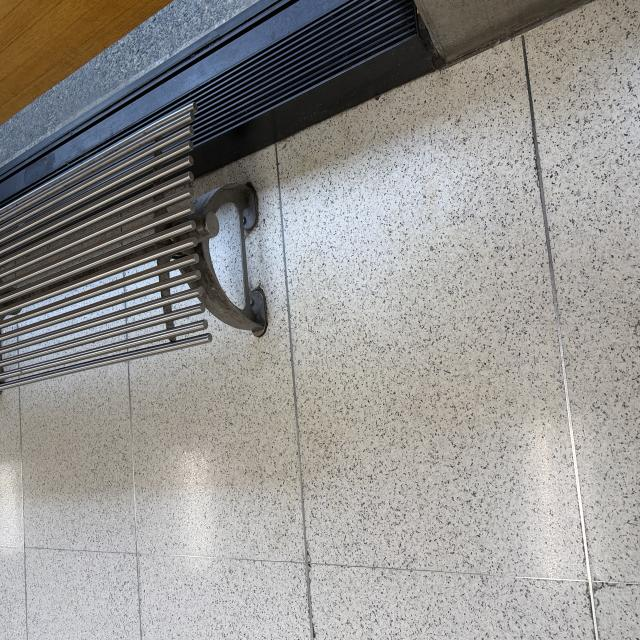Bench: (187, 4, 401, 351)
